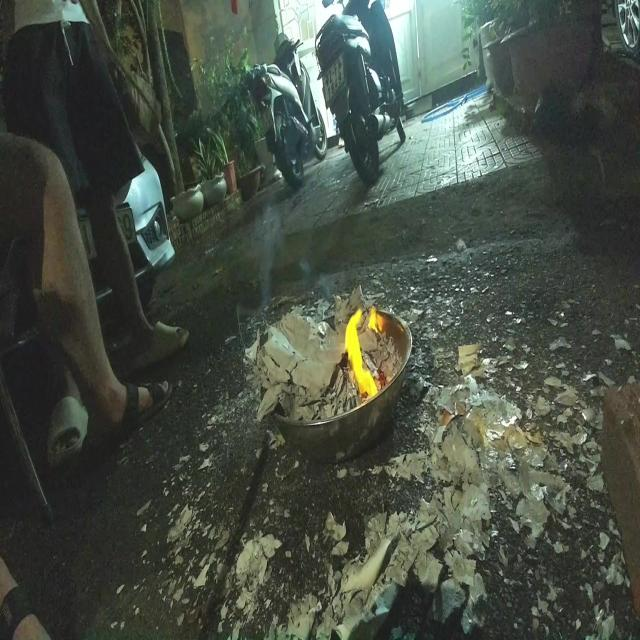Fire: (344, 292, 384, 404)
